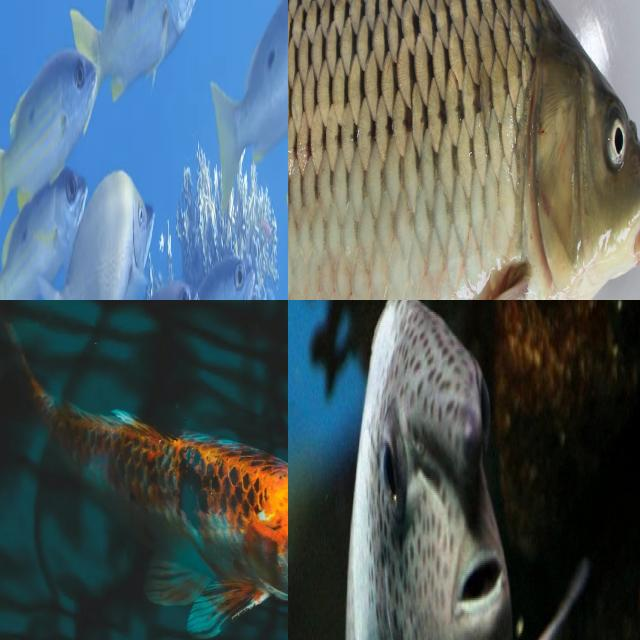fish: (288, 0, 640, 300), (297, 300, 590, 640), (0, 0, 288, 300), (94, 301, 288, 640)
